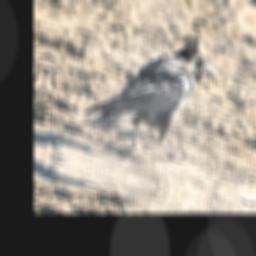Crow: (78, 16, 221, 179)
